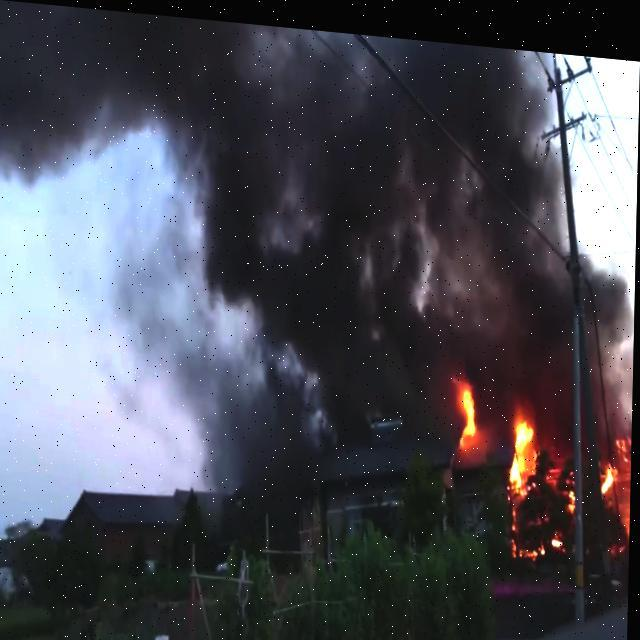Fire: (510, 406, 541, 484), (457, 372, 480, 438), (513, 531, 548, 549), (600, 452, 616, 482), (552, 522, 566, 540)
